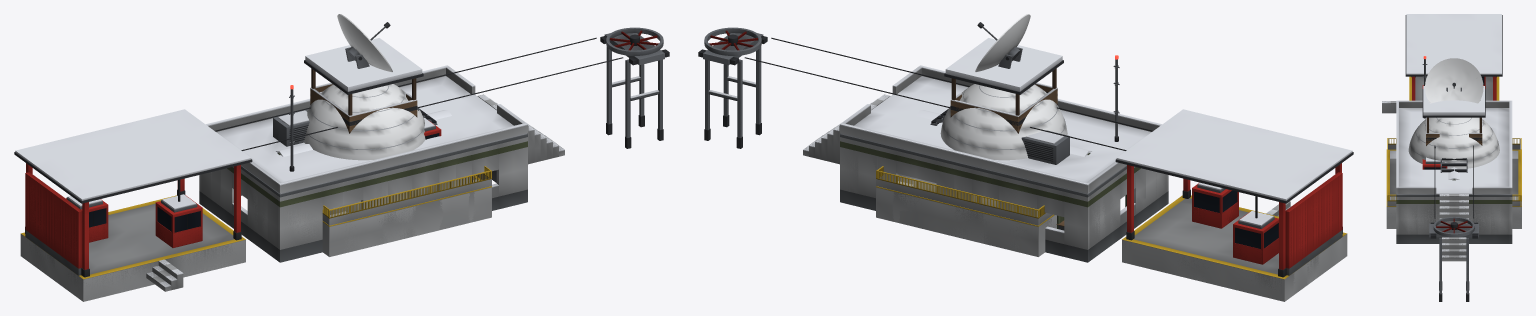
The model's file is frostbite.glb.
The picture shows the model from 3 angles, left to right: view 1: azimuth 30°, elevation 25°; view 2: azimuth 150°, elevation 25°; view 3: azimuth 270°, elevation 25°; orthographic projection. The views are drawn at different scales.
Parts seen in each view (by area): view 1: fb-cableway, fb-ops, fb-radome, fb-cableway-lod, fb-ops-lod, fb-tower, fb-radome-lod, fb-dish, fb-tower-lod; view 2: fb-cableway, fb-ops, fb-radome, fb-cableway-lod, fb-ops-lod, fb-tower, fb-radome-lod, fb-dish, fb-tower-lod; view 3: fb-ops, fb-cableway, fb-radome, fb-dish-lod, fb-tower, fb-ops-lod, fb-cableway-lod, fb-dish, fb-radome-lod, fb-tower-lod, fb-barracks.
Boxes of the visible parts, x1,y1,x2,y2 form: fb-cableway: (14, 27, 669, 301); fb-ops: (199, 65, 564, 262); fb-radome: (304, 84, 491, 256); fb-cableway-lod: (20, 27, 664, 301); fb-ops-lod: (202, 94, 563, 249); fb-tower: (304, 38, 437, 133); fb-radome-lod: (322, 187, 491, 256); fb-dish: (320, 14, 417, 126); fb-tower-lod: (310, 68, 417, 133); fb-cableway: (698, 27, 1353, 301); fb-ops: (803, 55, 1168, 262); fb-radome: (876, 84, 1067, 256); fb-cableway-lod: (703, 27, 1347, 301); fb-ops-lod: (805, 94, 1165, 245); fb-tower: (930, 38, 1063, 132); fb-radome-lod: (876, 187, 1054, 256); fb-dish: (950, 14, 1047, 125); fb-tower-lod: (950, 68, 1057, 133); fb-ops: (1396, 56, 1512, 261); fb-cableway: (1382, 14, 1502, 301); fb-radome: (1386, 117, 1521, 228); fb-dish-lod: (1425, 58, 1483, 103); fb-tower: (1422, 86, 1485, 172); fb-ops-lod: (1399, 194, 1508, 257); fb-cableway-lod: (1382, 76, 1496, 294); fb-dish: (1425, 58, 1483, 140); fb-radome-lod: (1386, 207, 1521, 228); fb-tower-lod: (1426, 118, 1482, 145); fb-barracks: (1448, 167, 1459, 180).
Bounding box in the file's own units: 45.13 × 13.34 × 12.4.
